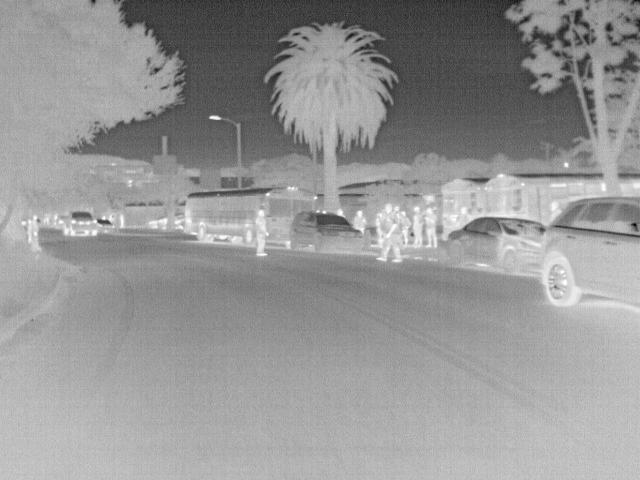car: (541, 192, 640, 310), (444, 216, 550, 271), (291, 210, 370, 251), (62, 211, 98, 238), (92, 220, 118, 236)
person: (377, 204, 405, 262), (252, 207, 272, 256), (410, 205, 427, 246), (425, 206, 442, 246), (351, 208, 368, 237), (454, 204, 475, 225), (30, 213, 42, 246), (545, 200, 563, 216), (26, 218, 34, 246)
